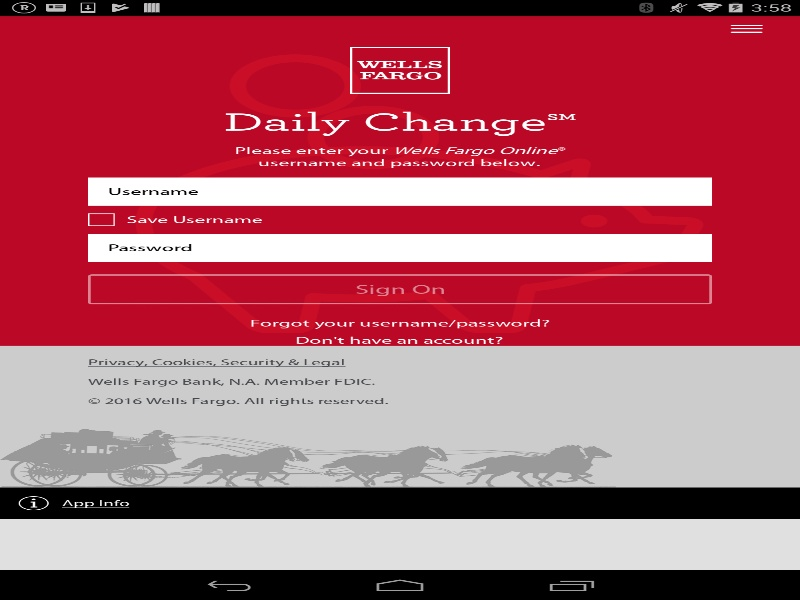Button: (88, 274, 712, 304)
Input: (88, 177, 712, 205), (88, 233, 712, 261)
